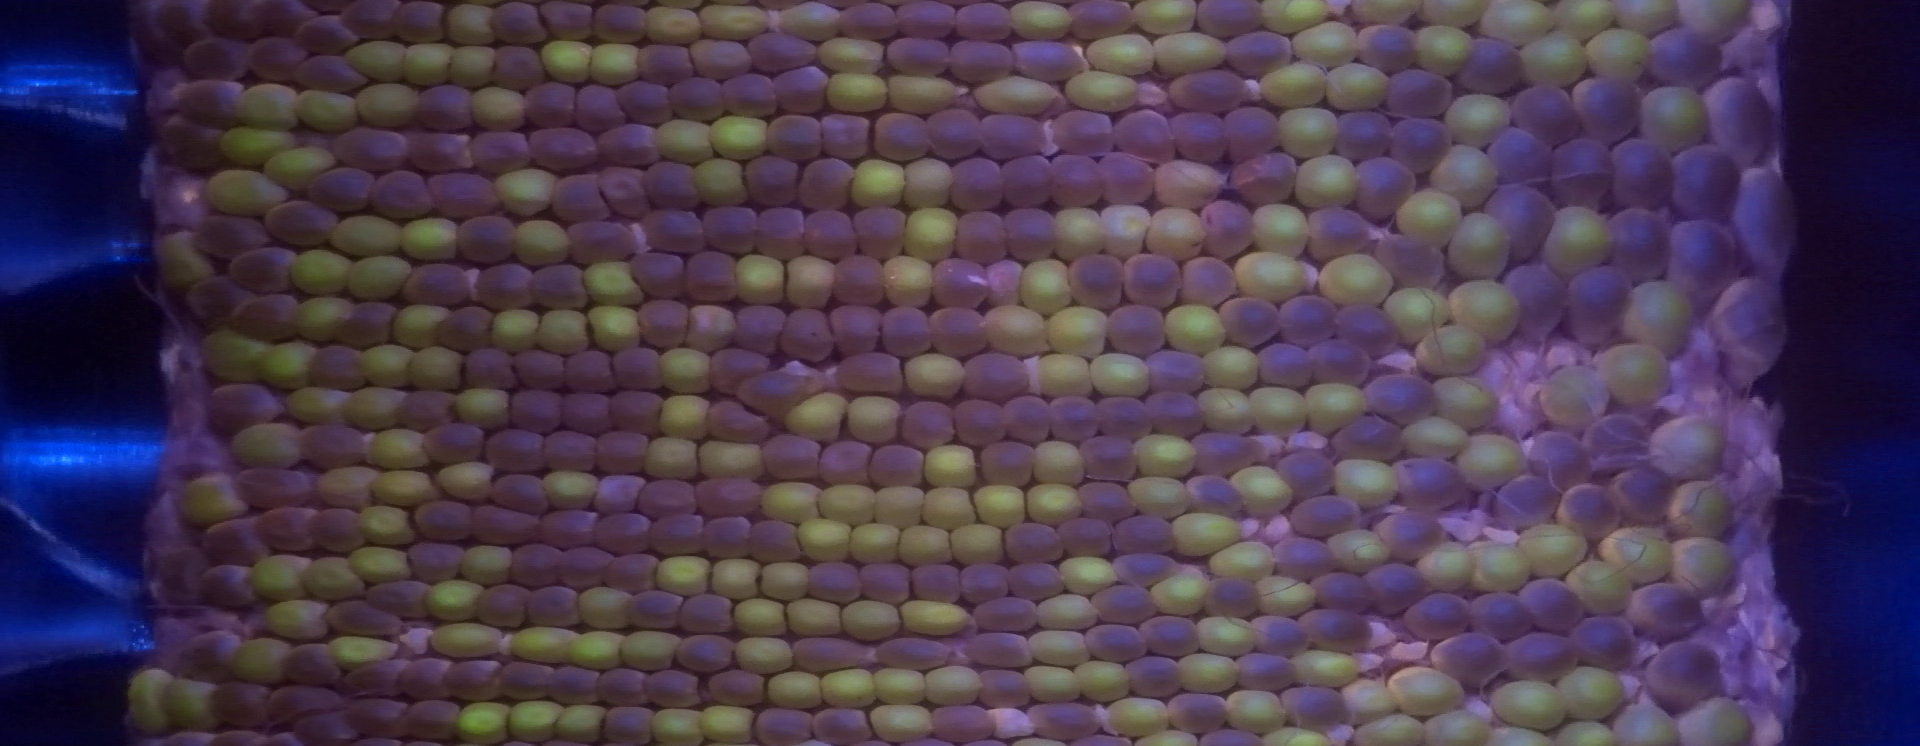fluorescent: (1591, 343, 1678, 408), (1547, 200, 1620, 276), (1626, 279, 1700, 353), (1644, 85, 1716, 160), (1442, 205, 1513, 281), (1532, 363, 1611, 429), (1318, 250, 1400, 314), (1670, 533, 1740, 601), (1654, 420, 1731, 481), (1429, 142, 1501, 206), (1431, 376, 1509, 434), (1291, 151, 1362, 213), (980, 303, 1056, 360), (1599, 523, 1676, 579), (204, 165, 298, 212), (178, 465, 251, 524), (1227, 464, 1303, 521), (1382, 285, 1453, 345), (1565, 555, 1638, 612), (969, 71, 1067, 114), (1460, 429, 1524, 492), (1412, 318, 1487, 374), (1588, 27, 1657, 87), (200, 322, 269, 381), (1462, 538, 1534, 594), (1389, 192, 1463, 246), (1286, 17, 1367, 66), (1142, 29, 1234, 72), (1444, 92, 1515, 147), (1275, 108, 1346, 163), (1060, 65, 1140, 114), (160, 673, 225, 733), (1451, 277, 1518, 334), (1513, 521, 1583, 576), (227, 632, 296, 687), (1162, 304, 1237, 355), (429, 617, 512, 663), (1195, 341, 1264, 394), (902, 348, 972, 401), (756, 477, 827, 528), (1123, 473, 1194, 524), (1558, 666, 1629, 718), (1489, 679, 1567, 725), (1521, 32, 1589, 85), (781, 393, 850, 446), (1019, 256, 1081, 314), (1130, 430, 1200, 481), (153, 229, 217, 285), (1300, 383, 1375, 431), (656, 344, 722, 398), (692, 437, 773, 481), (841, 517, 909, 570), (120, 668, 173, 735), (1168, 510, 1240, 559), (236, 423, 309, 472), (252, 334, 315, 391), (1319, 62, 1398, 107), (1678, 696, 1747, 746), (885, 69, 962, 114), (1081, 33, 1160, 77), (1416, 537, 1476, 594), (707, 555, 771, 608), (585, 37, 650, 89), (1476, 1, 1560, 42), (1258, 64, 1337, 107), (898, 594, 975, 638), (291, 83, 362, 131), (238, 80, 305, 130), (344, 382, 411, 432), (433, 458, 502, 507), (331, 214, 407, 258), (1026, 352, 1091, 403), (1400, 413, 1469, 461), (880, 254, 938, 311), (1671, 480, 1730, 537), (1247, 202, 1307, 257), (898, 156, 958, 211), (263, 592, 331, 641), (369, 420, 433, 470), (216, 125, 301, 163), (287, 249, 356, 295), (1153, 162, 1227, 206), (291, 293, 358, 342), (418, 575, 484, 624), (516, 216, 576, 269), (1198, 386, 1259, 439), (1332, 456, 1400, 503), (836, 597, 904, 644), (261, 149, 340, 190), (389, 300, 453, 350), (730, 631, 798, 677), (1389, 663, 1461, 707), (365, 465, 437, 510), (504, 695, 569, 744), (782, 254, 838, 311), (353, 78, 422, 124), (1284, 650, 1368, 688), (1245, 390, 1311, 437), (345, 254, 411, 301), (638, 2, 711, 45), (869, 481, 932, 532), (970, 481, 1032, 532), (311, 462, 378, 508), (795, 513, 855, 565), (585, 305, 645, 356), (300, 552, 360, 604), (820, 69, 890, 113), (918, 440, 981, 489), (249, 555, 320, 598), (840, 394, 904, 442), (1417, 24, 1473, 78), (816, 33, 893, 72), (580, 261, 645, 307), (1220, 684, 1286, 729), (1174, 650, 1244, 693), (1340, 681, 1409, 724), (944, 522, 1007, 570), (893, 517, 951, 567), (653, 116, 718, 162), (1332, 523, 1392, 572), (1194, 612, 1262, 655), (1674, 1, 1751, 39), (509, 624, 577, 666), (849, 159, 912, 205), (399, 213, 463, 258), (768, 1, 841, 40), (1089, 347, 1147, 396), (331, 630, 402, 670), (640, 436, 700, 484), (926, 663, 986, 710), (453, 385, 513, 432), (1100, 695, 1168, 736), (916, 481, 977, 528), (1618, 699, 1679, 746), (1053, 205, 1104, 260), (538, 307, 589, 363), (1149, 571, 1211, 616), (905, 206, 955, 262), (702, 116, 771, 157), (1234, 256, 1304, 296), (1030, 442, 1089, 490), (784, 594, 847, 638), (562, 628, 629, 670), (1251, 573, 1316, 616), (816, 666, 884, 707), (342, 38, 410, 78), (577, 587, 639, 631), (447, 39, 504, 87), (343, 546, 418, 583), (1003, 1, 1073, 40), (1075, 657, 1134, 703), (768, 668, 831, 710), (811, 484, 878, 524), (1151, 207, 1206, 256), (1020, 479, 1081, 523), (541, 37, 598, 85), (496, 168, 555, 213), (1127, 1, 1199, 38), (1260, 1, 1337, 36), (456, 699, 516, 744), (735, 251, 789, 300), (1049, 306, 1103, 355), (1040, 594, 1107, 633), (407, 344, 463, 391), (693, 160, 751, 206), (1056, 556, 1122, 595), (1021, 663, 1080, 707), (287, 383, 353, 423), (400, 38, 456, 85), (1611, 1, 1679, 39), (868, 706, 936, 744), (1209, 541, 1276, 579), (470, 83, 527, 129), (1029, 630, 1093, 669), (647, 708, 713, 746), (868, 669, 934, 707), (545, 468, 601, 512), (620, 632, 684, 670), (726, 597, 791, 635), (358, 343, 416, 385), (358, 503, 411, 549), (1555, 1, 1615, 42), (698, 1, 765, 37), (1349, 715, 1427, 746), (696, 707, 759, 744), (464, 539, 514, 586), (658, 394, 711, 437), (756, 559, 811, 599), (487, 309, 539, 352), (655, 556, 713, 594), (551, 699, 602, 741), (444, 2, 500, 40), (1420, 710, 1478, 746), (1479, 722, 1562, 746), (1420, 1, 1493, 26), (1348, 1, 1416, 27), (1558, 717, 1615, 746), (1266, 729, 1333, 746)
nonfluorescent: (1709, 265, 1796, 381), (1738, 157, 1805, 281), (1607, 134, 1681, 214), (1669, 218, 1745, 295), (1487, 176, 1561, 254), (1707, 75, 1768, 167), (1543, 137, 1625, 205), (1647, 24, 1731, 87), (1671, 143, 1741, 216), (1390, 454, 1472, 516), (1510, 261, 1573, 339), (1487, 124, 1558, 194), (1588, 415, 1665, 479), (1569, 73, 1643, 137), (1380, 69, 1466, 124), (1526, 428, 1596, 495), (1509, 83, 1583, 146), (1427, 630, 1511, 685), (1607, 207, 1673, 277), (1648, 639, 1717, 706), (1565, 267, 1629, 338), (980, 111, 1063, 165), (1567, 614, 1642, 674), (422, 171, 509, 223), (1622, 579, 1701, 635), (1498, 625, 1572, 682), (1376, 232, 1450, 289), (1304, 206, 1378, 263), (1362, 370, 1438, 425), (322, 127, 411, 174), (260, 198, 344, 247), (1384, 116, 1452, 176), (153, 111, 222, 171), (926, 256, 999, 311), (464, 125, 538, 180), (1353, 152, 1416, 216), (200, 517, 278, 567), (629, 298, 700, 353), (1332, 303, 1400, 360), (563, 219, 644, 267), (527, 124, 607, 171), (924, 307, 994, 363), (732, 374, 824, 415), (228, 468, 320, 510), (829, 255, 894, 314), (227, 246, 302, 296), (699, 345, 771, 398), (230, 294, 310, 342), (948, 36, 1021, 87), (171, 80, 252, 126), (1097, 147, 1160, 207), (1218, 290, 1282, 349), (872, 107, 936, 165), (1524, 577, 1589, 635), (778, 312, 845, 367), (697, 205, 765, 258), (1109, 109, 1179, 162), (253, 503, 323, 556), (201, 383, 287, 426), (639, 208, 714, 257), (680, 246, 744, 303), (1062, 255, 1127, 311), (369, 164, 433, 220), (800, 208, 871, 260), (1305, 334, 1371, 390), (549, 170, 615, 225), (1502, 473, 1570, 527), (846, 205, 913, 258), (1403, 592, 1476, 642), (396, 263, 471, 311), (1187, 431, 1266, 477), (400, 122, 474, 171), (1462, 37, 1524, 94), (757, 430, 827, 481), (304, 163, 381, 209), (949, 209, 1014, 265), (184, 271, 255, 321), (1171, 67, 1251, 111), (827, 1, 905, 47), (484, 472, 562, 517), (1359, 563, 1431, 612), (824, 301, 884, 360), (339, 293, 400, 350), (1564, 479, 1618, 544), (1333, 107, 1398, 160), (1332, 412, 1403, 461), (298, 424, 372, 470), (1030, 701, 1111, 744), (795, 151, 852, 211), (1007, 36, 1082, 81), (1245, 610, 1321, 655), (1198, 197, 1251, 261), (944, 1, 1018, 48), (873, 633, 960, 673), (324, 599, 411, 638), (1375, 512, 1446, 560), (1044, 154, 1112, 205), (751, 205, 811, 261), (743, 152, 806, 206), (830, 352, 911, 393), (803, 706, 887, 746), (503, 81, 579, 125), (705, 394, 770, 446), (1289, 492, 1363, 538), (880, 34, 960, 76), (1618, 462, 1675, 519), (1360, 20, 1420, 75), (729, 301, 789, 356), (1168, 107, 1229, 160), (551, 385, 618, 434), (1280, 293, 1342, 345), (644, 157, 708, 208), (964, 630, 1042, 671), (959, 352, 1029, 398), (975, 661, 1033, 717), (175, 32, 249, 76), (1389, 599, 1479, 635), (407, 499, 474, 546), (540, 421, 602, 473), (1476, 593, 1544, 639), (1205, 575, 1273, 621), (1229, 649, 1298, 696), (684, 36, 757, 80), (557, 345, 622, 394), (950, 152, 1005, 209), (1002, 206, 1060, 260), (1311, 570, 1385, 612), (1048, 110, 1125, 151), (238, 36, 306, 81), (776, 61, 831, 118), (1168, 690, 1233, 737), (1109, 305, 1169, 356), (951, 394, 1011, 446), (1224, 27, 1291, 73), (197, 559, 258, 609), (260, 679, 336, 719), (1300, 610, 1374, 652), (460, 216, 523, 265), (433, 303, 496, 352), (587, 510, 658, 552), (749, 703, 820, 746), (804, 560, 868, 608), (595, 165, 654, 217), (154, 543, 201, 608), (418, 83, 478, 134), (509, 386, 569, 436), (1044, 394, 1106, 443), (1228, 157, 1298, 200), (760, 115, 830, 158), (364, 577, 433, 620), (615, 76, 677, 124), (629, 42, 697, 86), (927, 107, 983, 159), (490, 2, 553, 49), (744, 27, 816, 69), (287, 51, 358, 93), (536, 510, 607, 551), (887, 1, 961, 40), (671, 594, 743, 635), (811, 443, 877, 488), (340, 658, 410, 699), (442, 653, 504, 699), (999, 154, 1056, 206), (792, 635, 877, 669), (969, 597, 1049, 632), (907, 560, 967, 608), (1138, 388, 1202, 432), (620, 588, 688, 630), (1123, 657, 1184, 703), (823, 107, 876, 160), (999, 390, 1053, 442), (687, 477, 764, 513), (1276, 445, 1332, 495), (485, 425, 541, 475), (533, 260, 590, 309), (1085, 621, 1149, 665), (1283, 688, 1347, 733), (931, 702, 998, 744), (405, 538, 465, 584), (1194, 1, 1272, 37), (1078, 439, 1142, 481), (1138, 614, 1202, 657), (421, 426, 490, 467), (1109, 511, 1176, 552), (1003, 557, 1065, 601), (720, 69, 778, 116), (553, 545, 611, 593), (1005, 522, 1064, 568), (1071, 478, 1135, 521), (340, 1, 408, 42), (465, 506, 533, 546), (591, 1, 651, 47), (1184, 477, 1249, 518), (186, 631, 249, 674), (705, 669, 769, 710), (1179, 251, 1231, 303), (669, 77, 729, 121), (280, 642, 340, 686), (591, 668, 659, 707), (609, 390, 665, 436), (508, 541, 564, 588), (1120, 254, 1178, 299), (645, 514, 708, 556), (573, 81, 624, 131), (880, 307, 933, 356), (640, 669, 704, 709), (1091, 394, 1151, 437), (629, 250, 684, 296), (193, 216, 263, 252), (479, 265, 546, 303), (956, 563, 1018, 605), (394, 654, 452, 698), (1224, 107, 1283, 149), (1051, 521, 1119, 557), (522, 586, 580, 628), (868, 440, 921, 488), (291, 17, 370, 49), (1068, 1, 1138, 37), (1084, 579, 1151, 616), (516, 345, 566, 394), (1270, 534, 1332, 573), (856, 563, 915, 605), (501, 658, 560, 699), (699, 518, 753, 563), (311, 342, 365, 387), (396, 385, 449, 430), (902, 402, 958, 446), (984, 442, 1040, 486), (607, 350, 671, 388), (634, 480, 698, 518), (212, 1, 273, 40), (220, 682, 272, 729), (594, 126, 661, 162), (1259, 341, 1313, 385), (463, 348, 519, 390), (394, 1, 448, 44), (539, 1, 601, 38), (1147, 350, 1204, 391), (475, 586, 528, 628), (747, 521, 801, 562), (549, 663, 602, 704), (403, 698, 458, 739), (337, 695, 399, 730), (593, 432, 653, 469), (312, 506, 358, 554), (675, 636, 733, 673), (599, 707, 654, 746), (1114, 552, 1178, 586), (294, 712, 353, 746), (598, 475, 650, 513), (264, 1, 320, 37), (607, 552, 658, 589)
